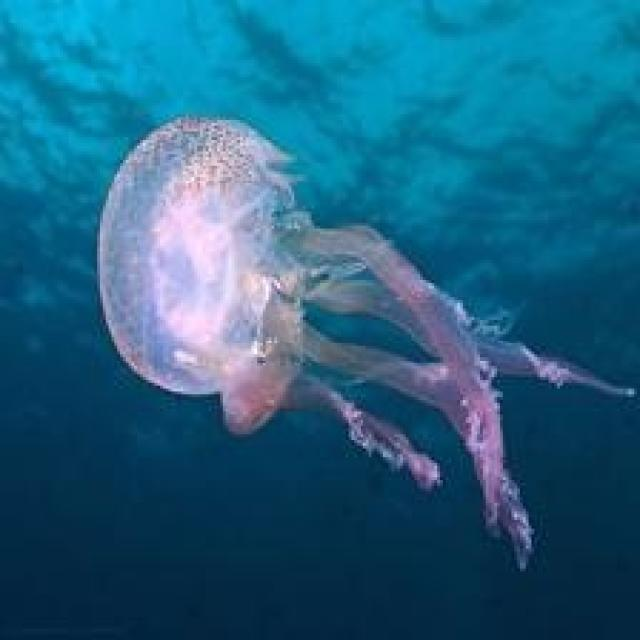Box-jellyfish: (94, 111, 637, 572)
